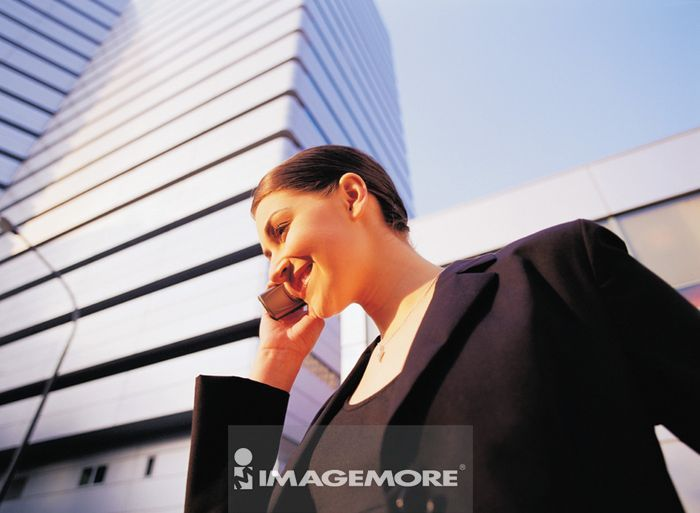talk: (250, 202, 339, 382)
